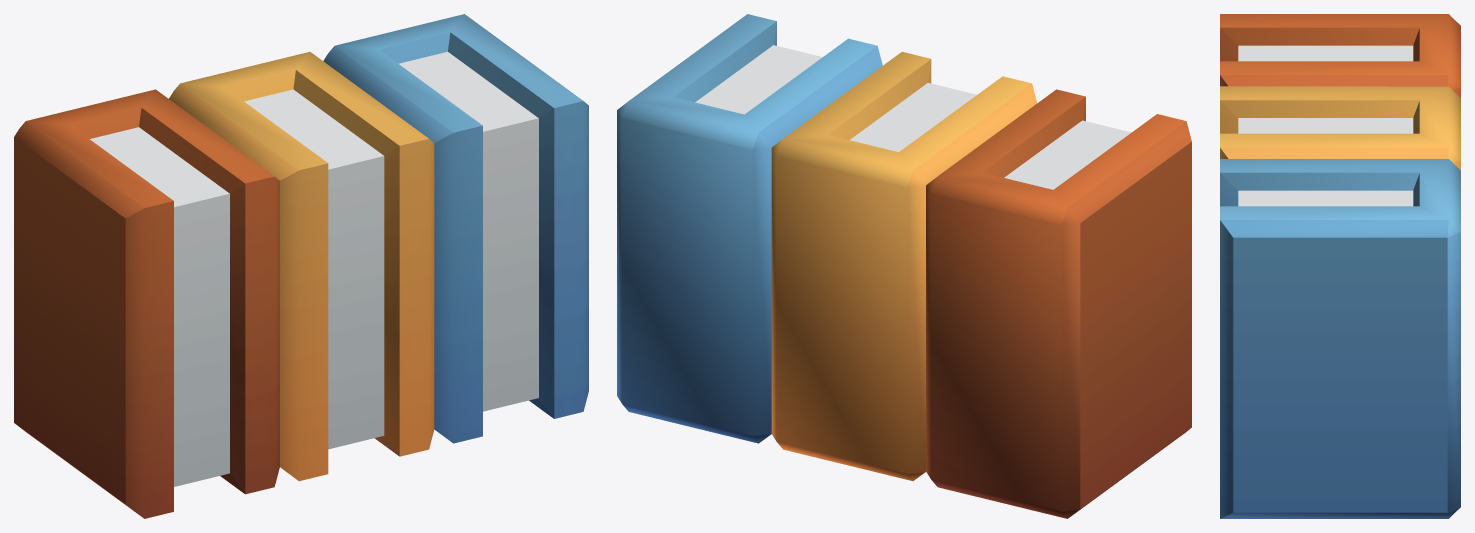
File: book_set.glb
The picture shows the model from 3 angles, left to right: view 1: azimuth 30°, elevation 25°; view 2: azimuth 150°, elevation 25°; view 3: azimuth 270°, elevation 25°; orthographic projection. The views are drawn at different scales.
Visible parts, largest first — view 1: book_set; view 2: book_set; view 3: book_set.
Part boxes in pixels (box(x1,y1,x2,y2)): book_set: box(14, 14, 588, 518); book_set: box(617, 14, 1191, 518); book_set: box(1220, 14, 1460, 518).
Size of the model in its own units: 0.78 by 0.5 by 0.365.
1 material, 1 textured.
